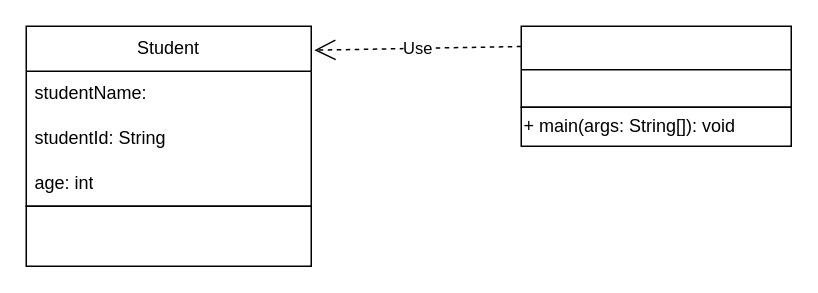
The diagram is 818 pixels wide and 293 high, and some of its shapes have lost their labels. The box of each missing label's shape, as (x1, y1, x2, y2) in pixels:
+ displayData(): void: (25, 205, 311, 266)
Main: (520, 25, 791, 107)
